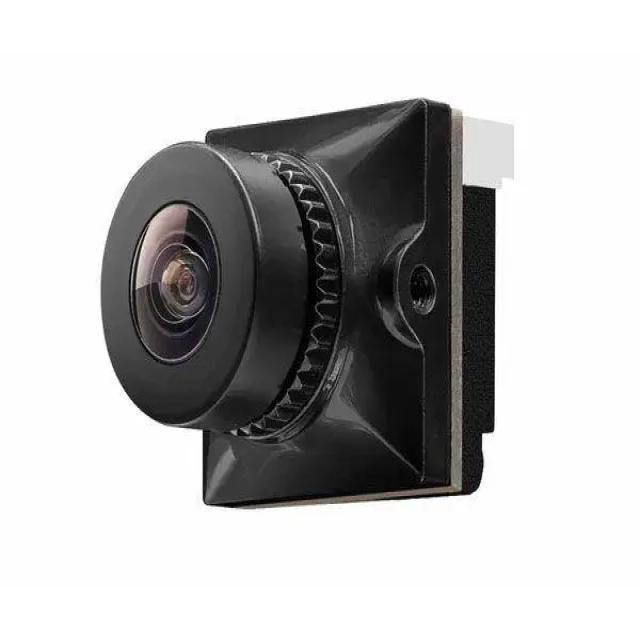hidden camera: (124, 203, 233, 354)
